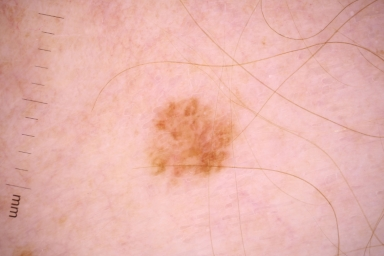nevus: (148, 100, 234, 176)
